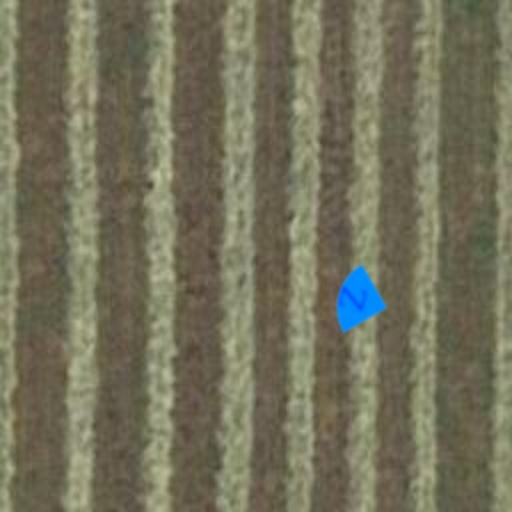quarter_circle: (316, 258, 400, 342)
